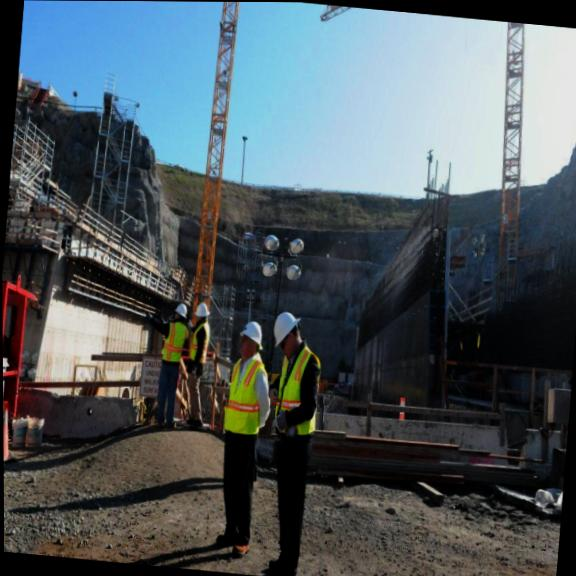safety_vest: (270, 351, 326, 435), (221, 352, 271, 440), (186, 318, 214, 365), (159, 316, 187, 362)
